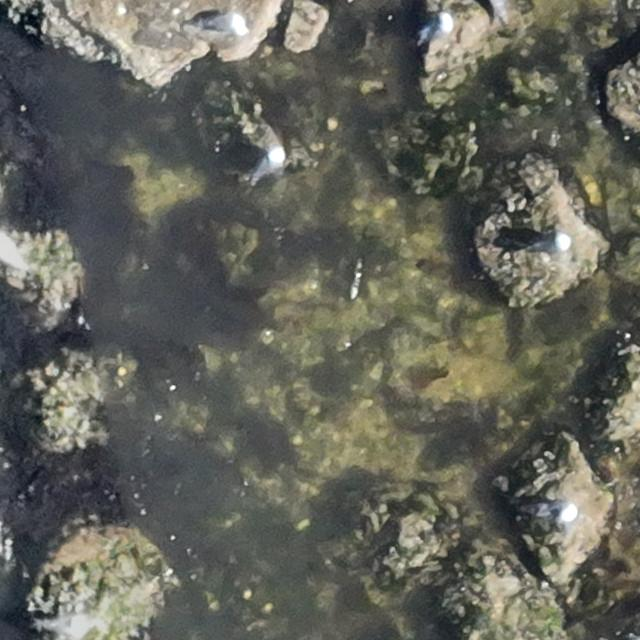umineko: (253, 146, 284, 188), (204, 15, 248, 36), (548, 502, 578, 524), (431, 14, 452, 40), (546, 234, 570, 253), (494, 0, 508, 19)
